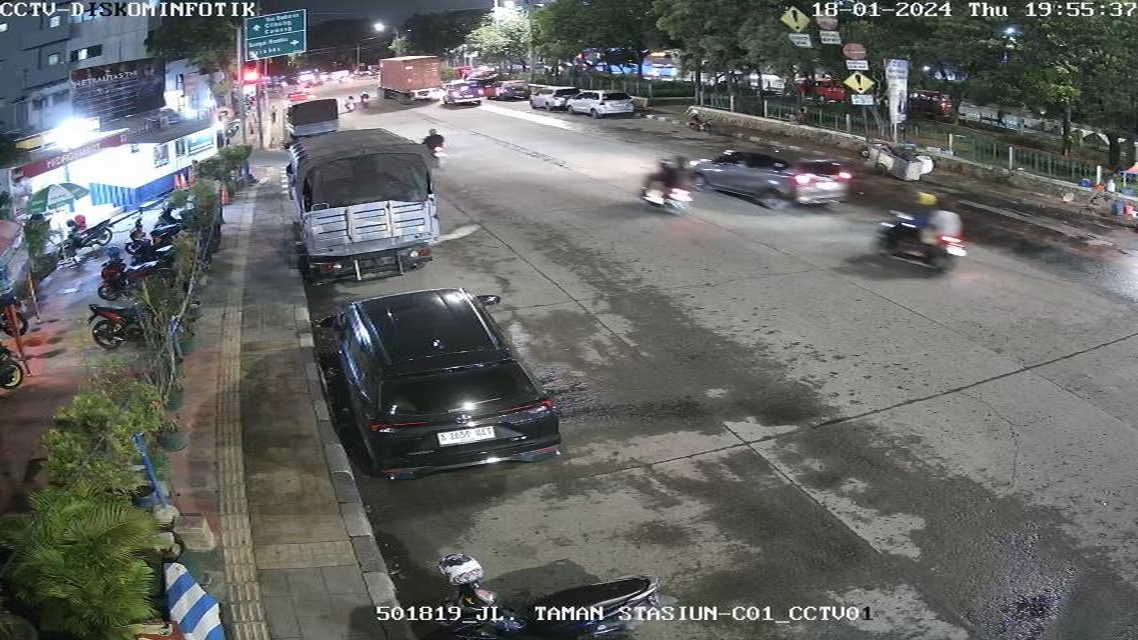Gerobak: (850, 132, 932, 182)
